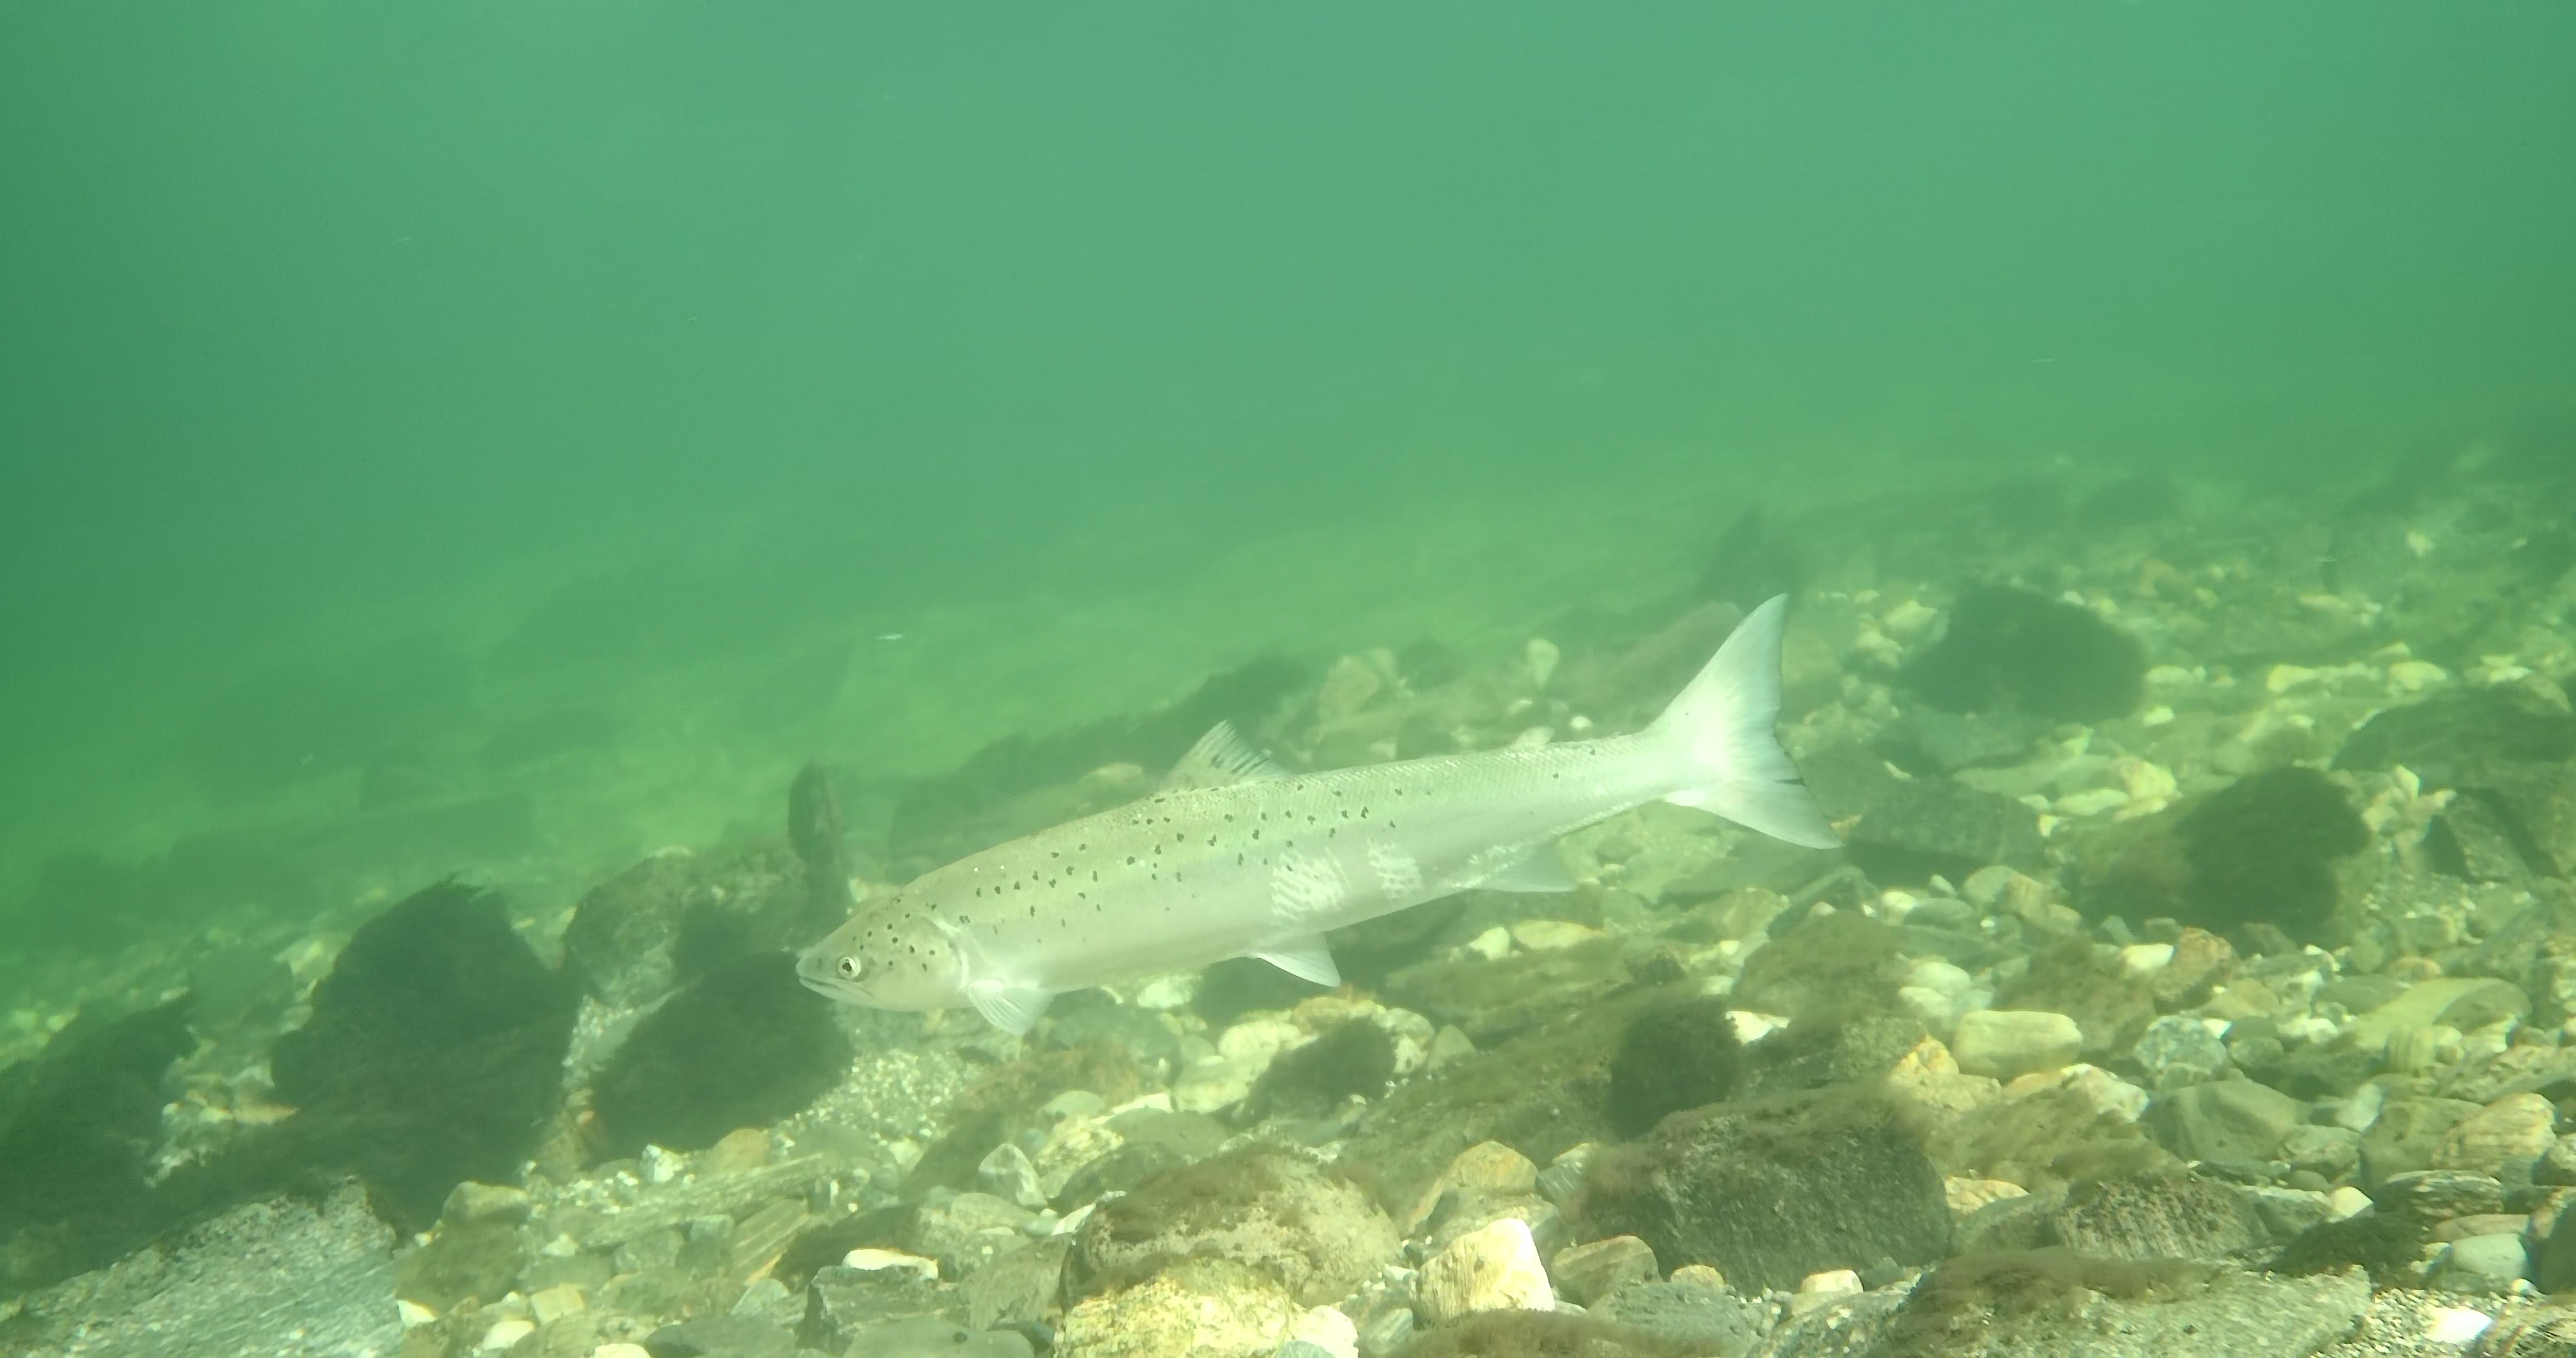salmon: (792, 591, 1847, 1038)
